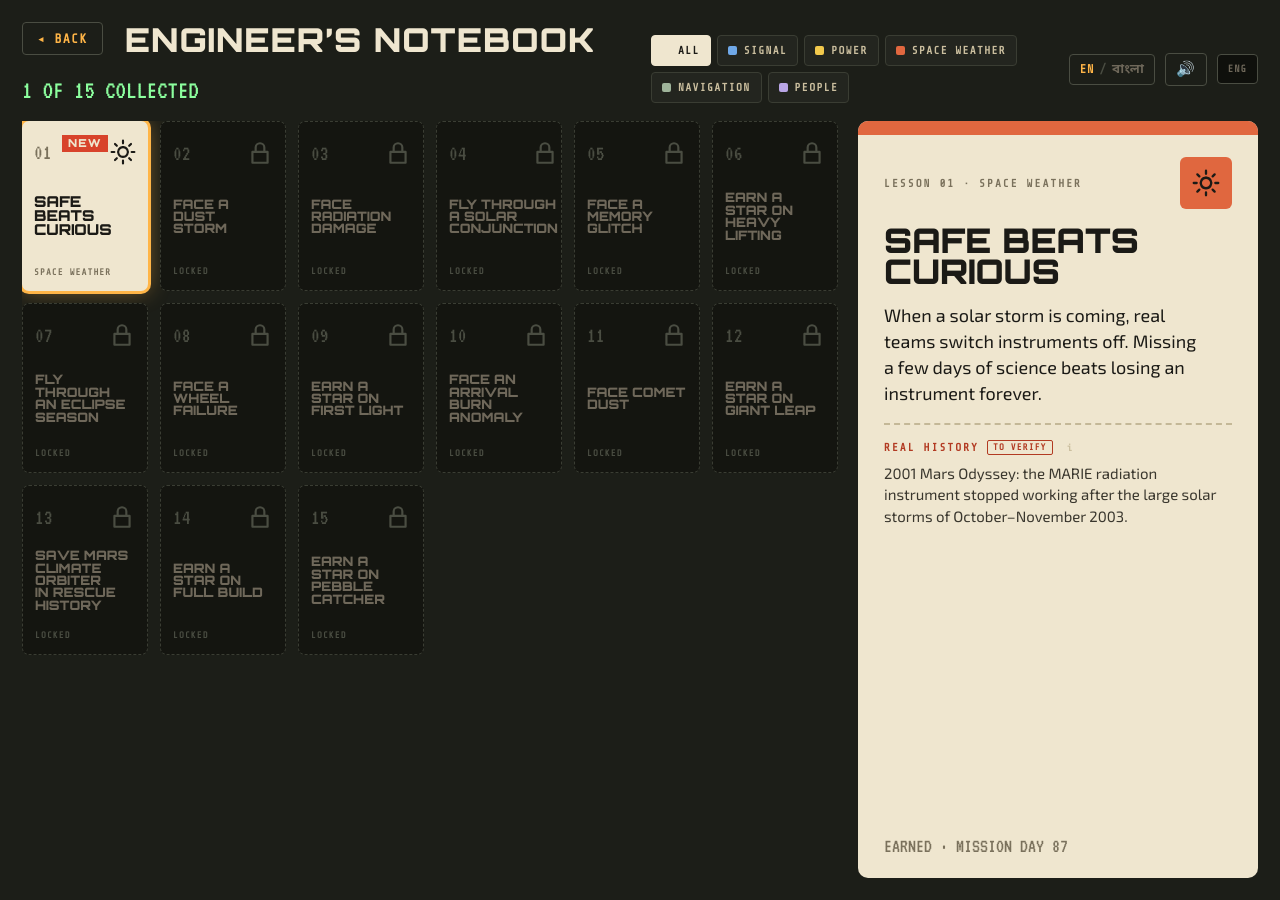
Test case: Notebook › open lessons show their words and the Sourced real history with ⓘ; locked ones say how to earn them
The width and height of the screenshot is (1280, 900).
Expected: the heading "SAFE BEATS CURIOUS" is shown, left=884, top=219, right=1139, bottom=292
Expected: the text "2001 Mars Odyssey: the MARIE radiation instrument stopped working after the large solar storms of October–November 2003." is shown, left=884, top=464, right=1216, bottom=525
Click the button "09 EARN A STAR ON FIRST LIGHT LOCKED".
click(361, 388)  # box left=298, top=303, right=424, bottom=473
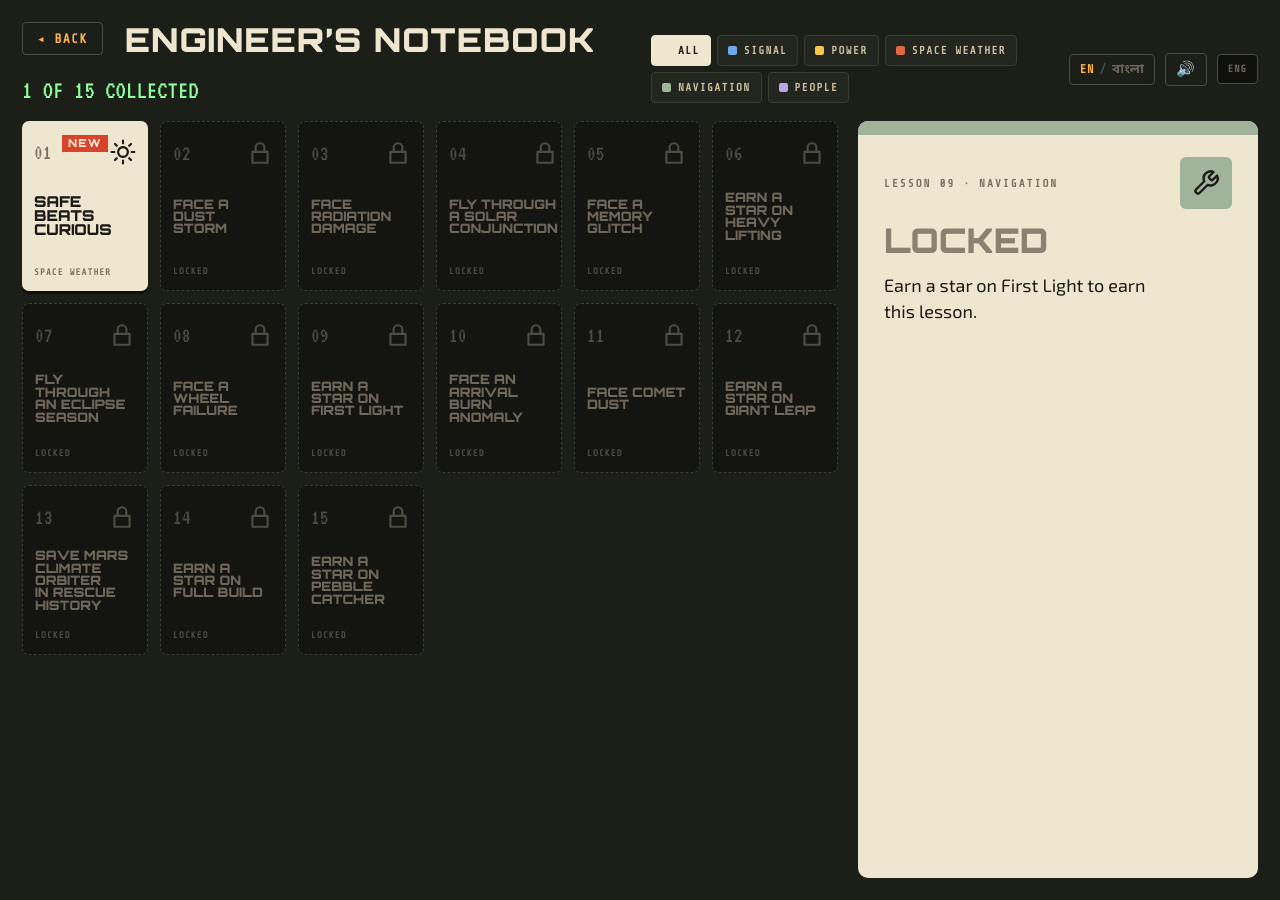
Expected: the heading "LOCKED" is shown, left=884, top=219, right=1048, bottom=261
